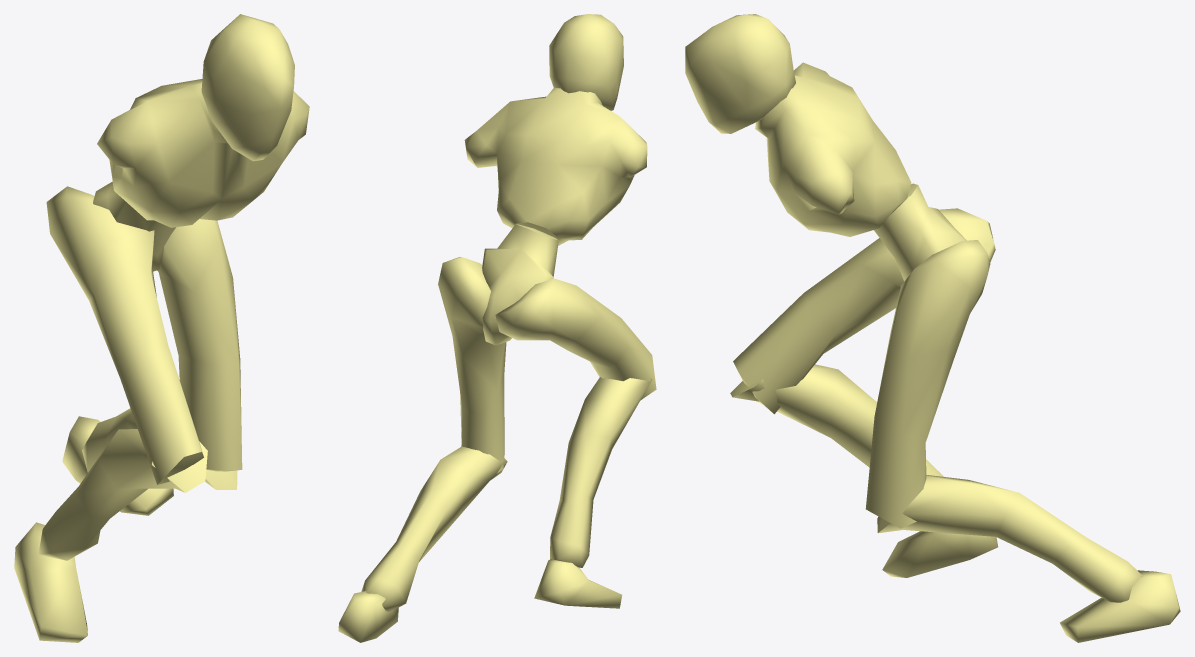
Rendered from filth6.obj.
3 renders of one model, left to right at view 1: azimuth 30°, elevation 25°; view 2: azimuth 150°, elevation 25°; view 3: azimuth 270°, elevation 25°, orthographic. The views are drawn at different scales.
Visible parts, largest first — view 1: Melee_Husk; view 2: Melee_Husk; view 3: Melee_Husk.
Boxes of the visible parts, x1,y1,x2,y2 form: Melee_Husk: [14, 14, 309, 642]; Melee_Husk: [338, 14, 656, 642]; Melee_Husk: [685, 14, 1180, 642].
Size of the model in its own units: 22.17 by 60.45 by 44.96.
